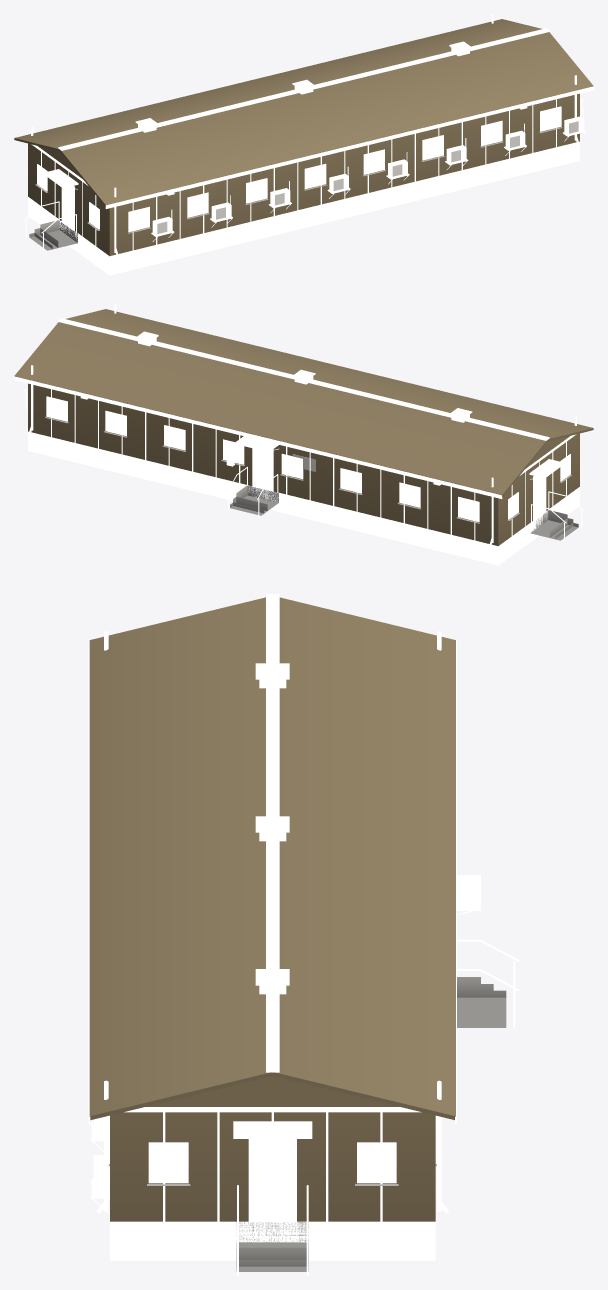
Rendered from barracks_block.glb.
3 views of the same model, one above another, from view 1: azimuth 30°, elevation 25°; view 2: azimuth 150°, elevation 25°; view 3: azimuth 270°, elevation 25° (orthographic). The views are drawn at different scales.
Visible parts, largest first — view 1: barracks_block_LOD0; view 2: barracks_block_LOD0; view 3: barracks_block_LOD0.
Boxes of the visible parts, box(x1,y1,x2,y2) form: barracks_block_LOD0: box(14, 14, 593, 275); barracks_block_LOD0: box(14, 304, 593, 565); barracks_block_LOD0: box(88, 594, 519, 1275).
Size of what is drawn, in the model's own units: 27.7 by 5.07 by 9.52.
